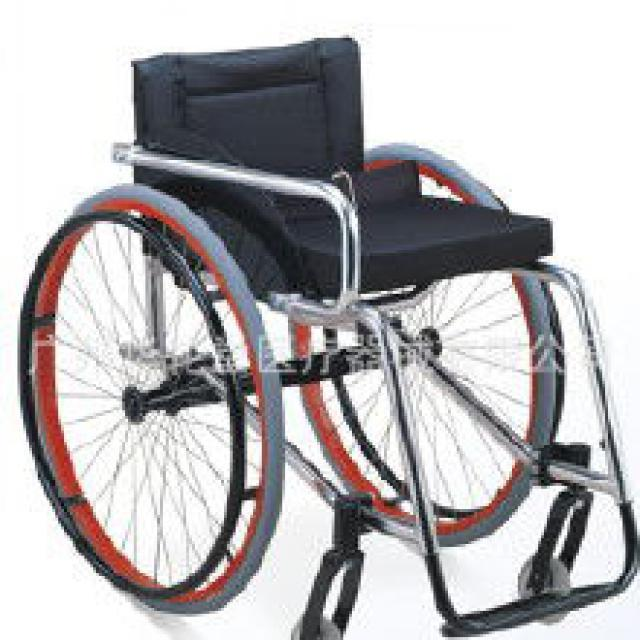wheelchairs: (17, 38, 640, 640)
